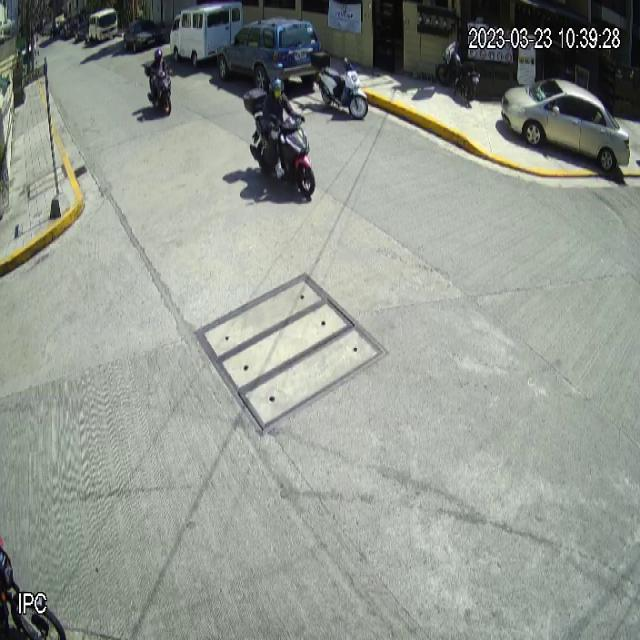Car: (501, 79, 631, 172), (216, 15, 323, 94)
Motorcycle: (250, 110, 316, 197), (312, 51, 368, 120)
Van: (169, 0, 243, 67)
